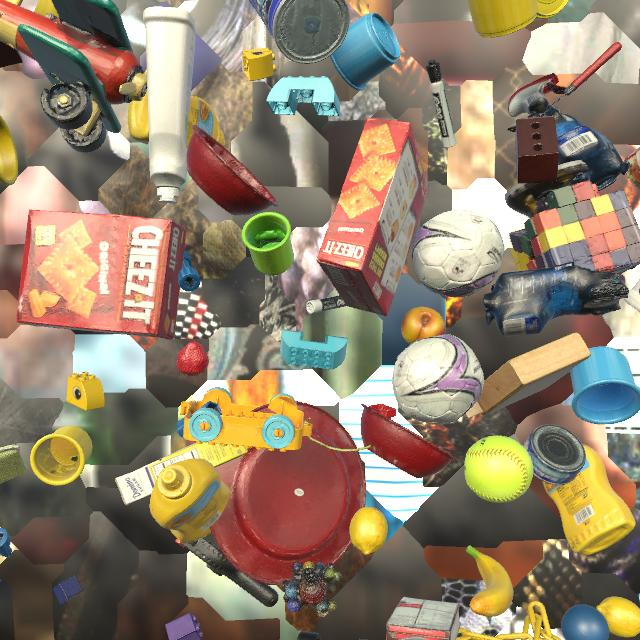ycb_002_master_chef_can: (249, 0, 350, 64)
ycb_003_cracker_box: (316, 118, 430, 316), (16, 209, 186, 340)
ycb_004_sugar_box: (115, 442, 248, 505)
ycb_005_tomato_soup_can: (624, 147, 640, 189)
ycb_006_mustard_bottle: (543, 444, 636, 555), (150, 458, 231, 544), (128, 92, 226, 149)
ycb_007_tuna_fish_can: (523, 424, 586, 485)
ycb_008_pudding_box: (386, 597, 461, 640)
ycb_011_banana: (466, 545, 513, 617)
ycb_012_strawberry: (176, 341, 209, 376)
ycb_014_lemon: (349, 507, 388, 555), (596, 596, 640, 637)
ycb_015_peach: (401, 307, 446, 344)
